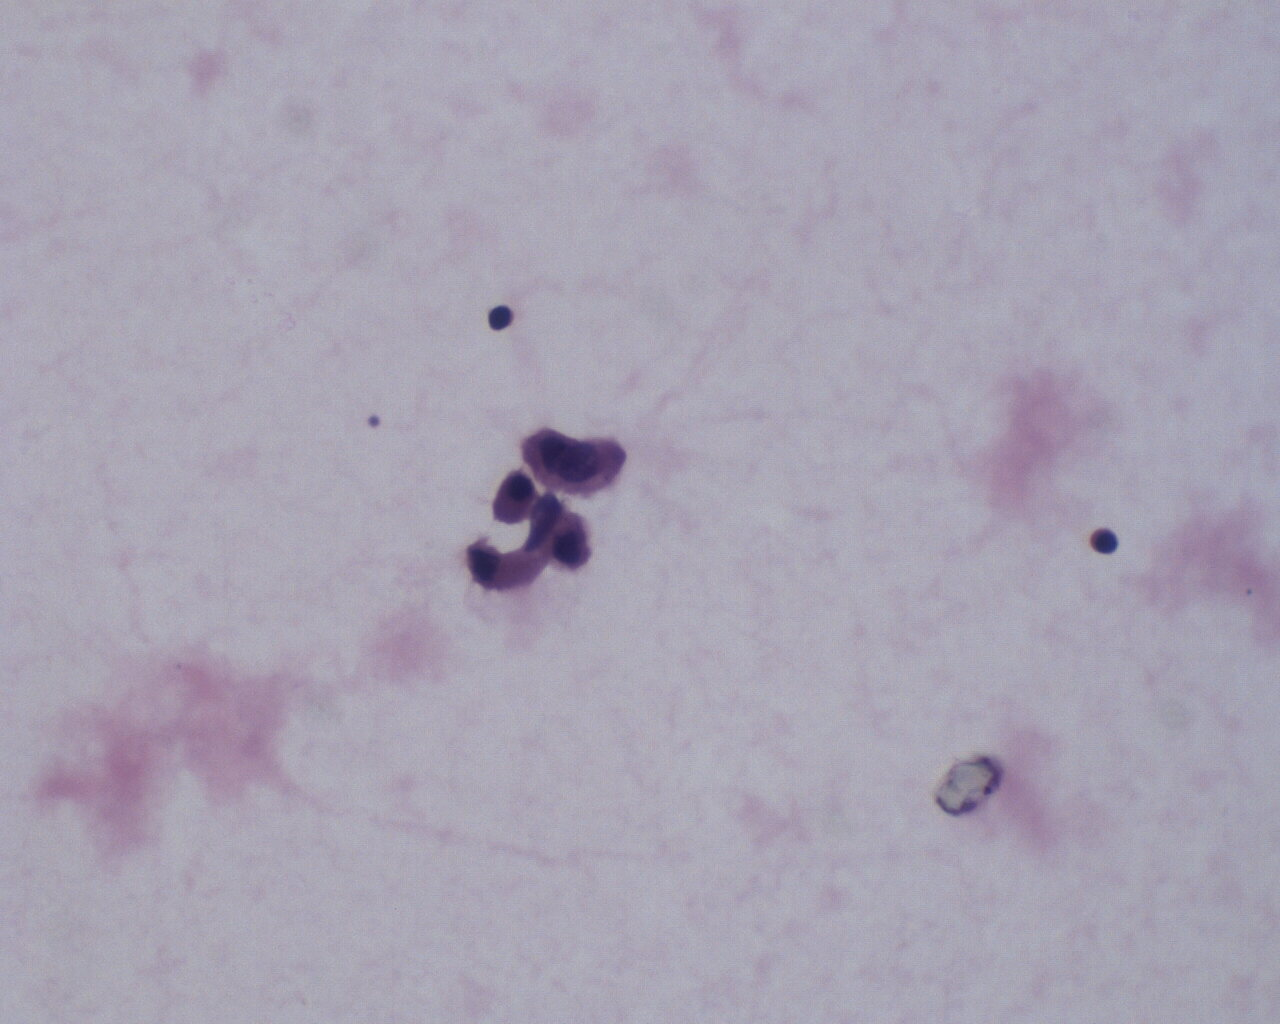ab: (521, 420, 629, 496)
lymph: (1087, 523, 1128, 564), (481, 298, 517, 334)
